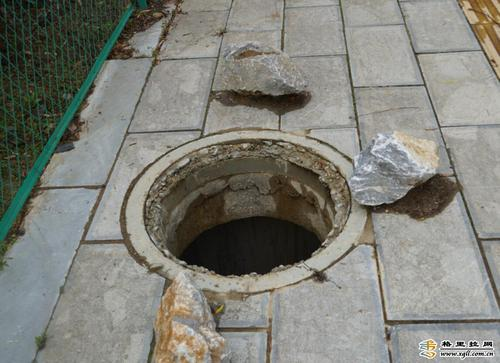lose: (121, 120, 379, 290)
